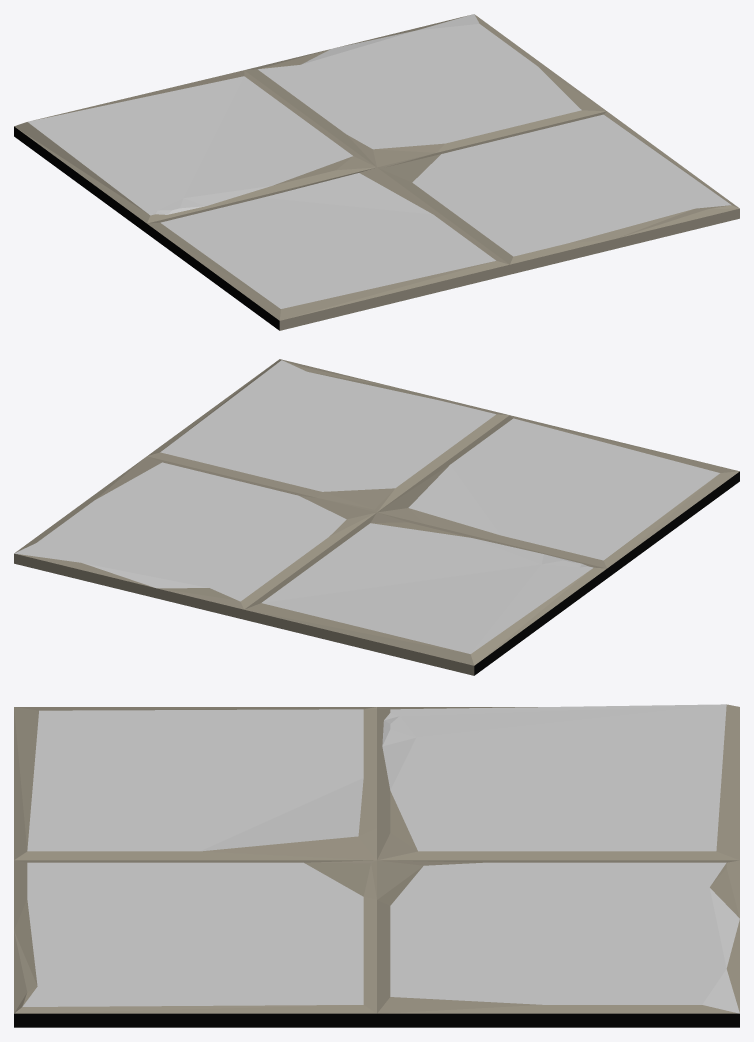
File: Floor.fbx
3 renders of one model, top to bottom at view 1: azimuth 30°, elevation 25°; view 2: azimuth 150°, elevation 25°; view 3: azimuth 270°, elevation 25°, orthographic. The views are drawn at different scales.
Parts seen in each view (by area): view 1: Floor; view 2: Floor; view 3: Floor.
Boxes of the visible parts, x1,y1,x2,y2 form: Floor: [14, 14, 739, 330]; Floor: [14, 359, 739, 675]; Floor: [14, 704, 739, 1027].
Size of the model in its own units: 800 by 26.74 by 800.
1 material, 1 textured.
